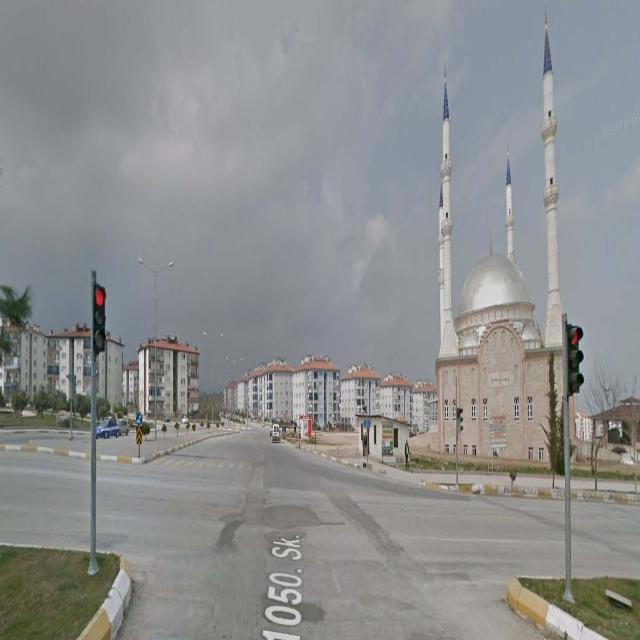kirmizi: (92, 285, 106, 352), (567, 328, 581, 394)
